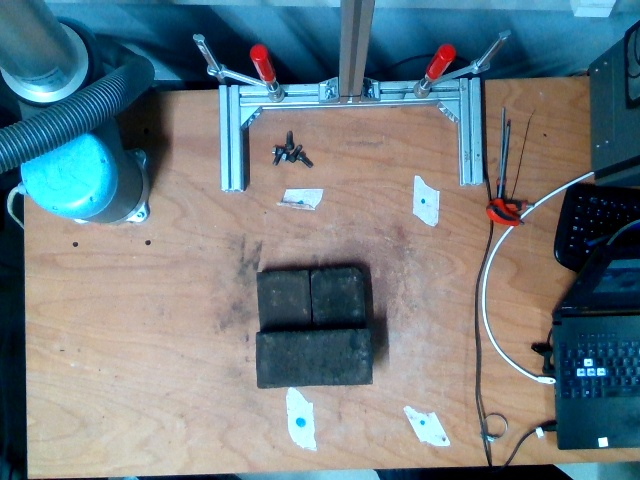brick: (257, 327, 370, 388)
